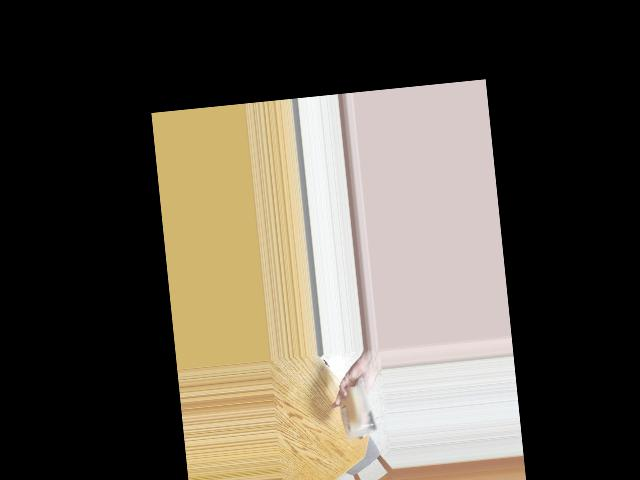cheese: (339, 387, 373, 436)
